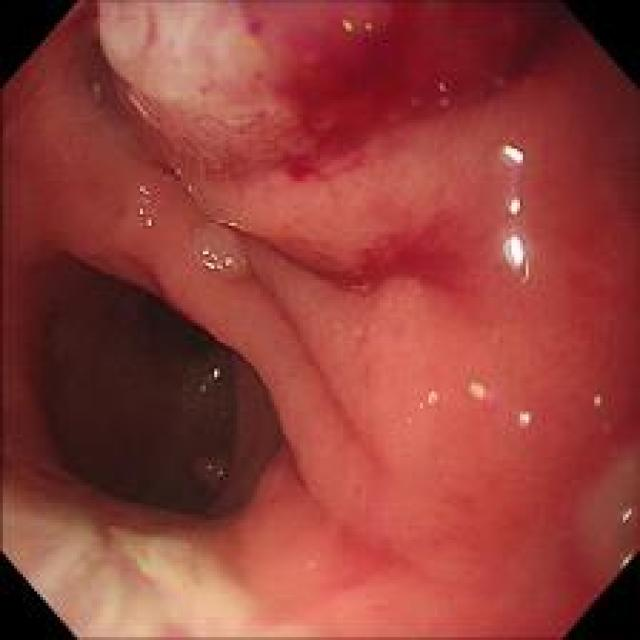blood: (234, 28, 558, 158), (272, 232, 476, 292), (272, 155, 345, 182)
color misalignment: (332, 6, 379, 41), (409, 382, 442, 419), (429, 72, 455, 110), (611, 498, 638, 531), (460, 375, 490, 401), (505, 404, 532, 429), (88, 78, 110, 108), (591, 391, 604, 408)
contrast: (24, 256, 250, 520)
specularity: (502, 234, 531, 284), (201, 246, 234, 270), (499, 141, 526, 169), (138, 182, 152, 229), (201, 369, 220, 391), (505, 198, 524, 215), (216, 470, 224, 478), (205, 464, 212, 471)
